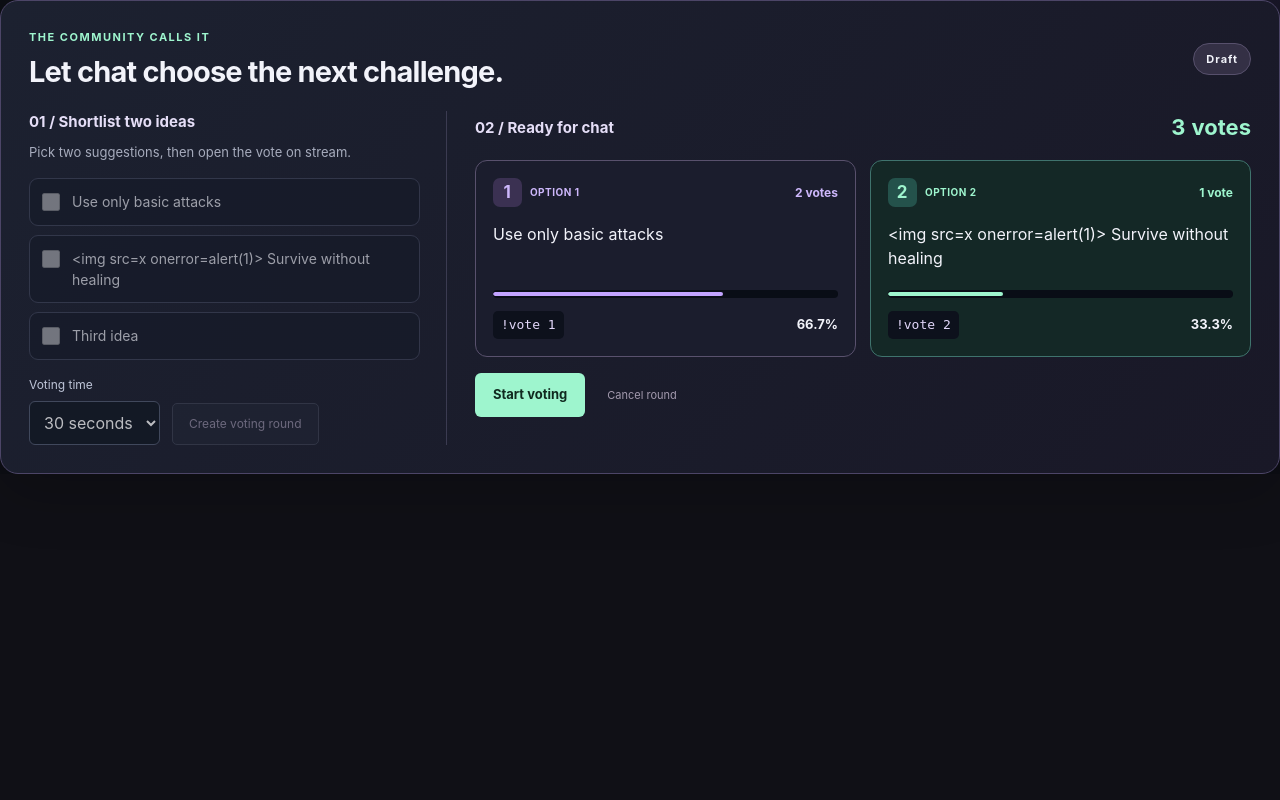
Test: fails closed and does not repeat a rejected mutation
Click the button "Start voting": (530, 395) [475,373,585,417]
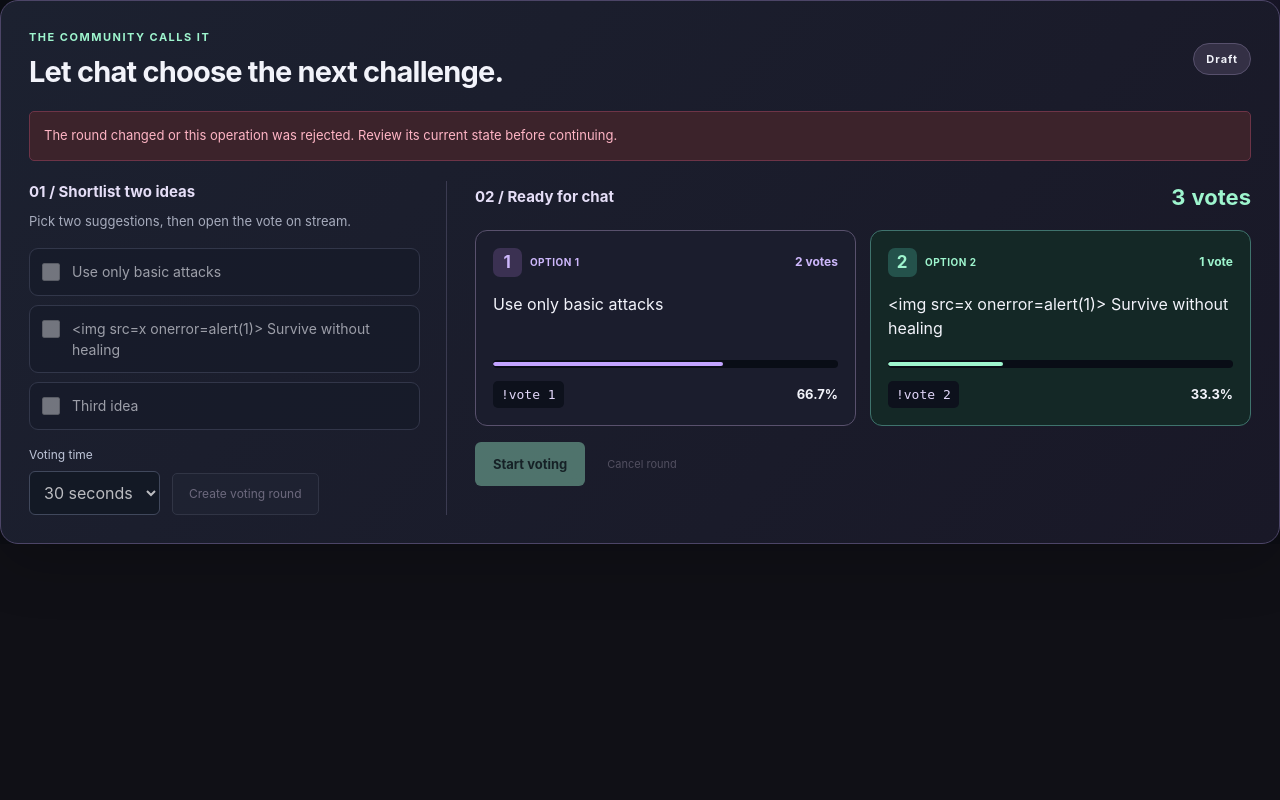
Check: the message shows "round changed", box [44,127,617,143]
